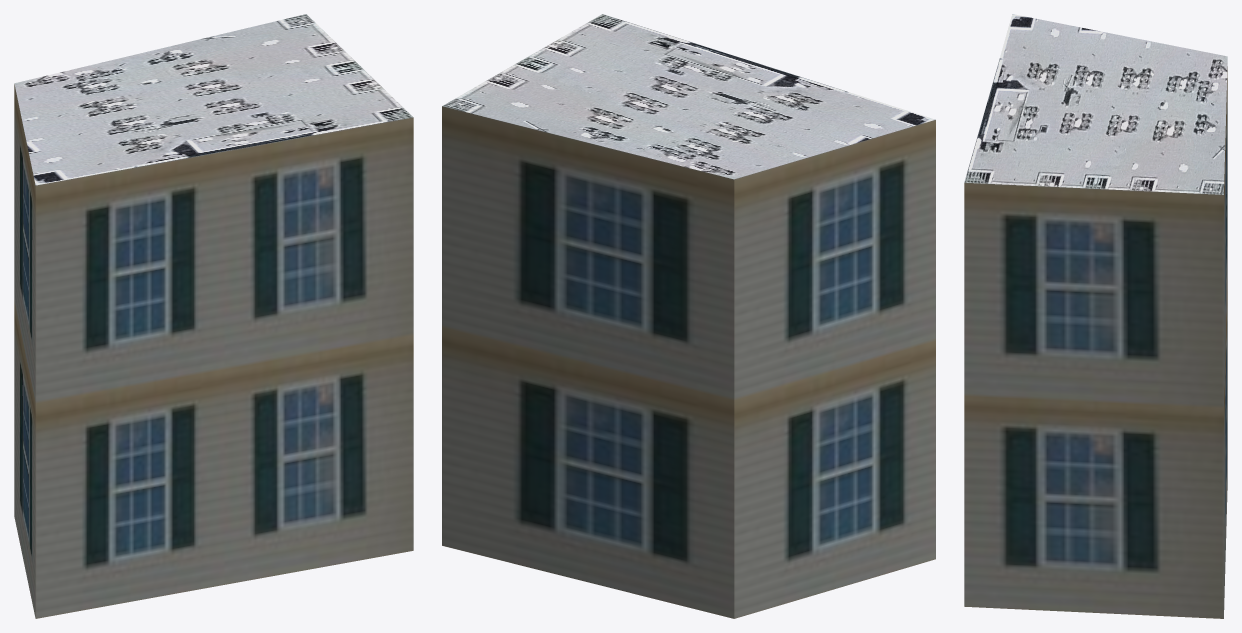
Rendered from ResTex__901.fbx.
3 renders of one model, left to right at view 1: azimuth 30°, elevation 25°; view 2: azimuth 150°, elevation 25°; view 3: azimuth 270°, elevation 25°, orthographic. The views are drawn at different scales.
Parts seen in each view (by area): view 1: CityEngineMaterial_7_m, CityEngineMaterial_8_m; view 2: CityEngineMaterial_7_m, CityEngineMaterial_8_m; view 3: CityEngineMaterial_7_m, CityEngineMaterial_8_m.
Boxes of the visible parts, x1=… form: CityEngineMaterial_7_m: x1=14, y1=84, x2=413, y2=618; CityEngineMaterial_8_m: x1=14, y1=14, x2=412, y2=185; CityEngineMaterial_7_m: x1=442, y1=106, x2=935, y2=618; CityEngineMaterial_8_m: x1=442, y1=14, x2=935, y2=179; CityEngineMaterial_7_m: x1=964, y1=66, x2=1227, y2=618; CityEngineMaterial_8_m: x1=964, y1=14, x2=1227, y2=194.
Bounding box in the file's own units: 5.49 × 6 × 3.38.
Materials: 2 (2 with a texture image).
